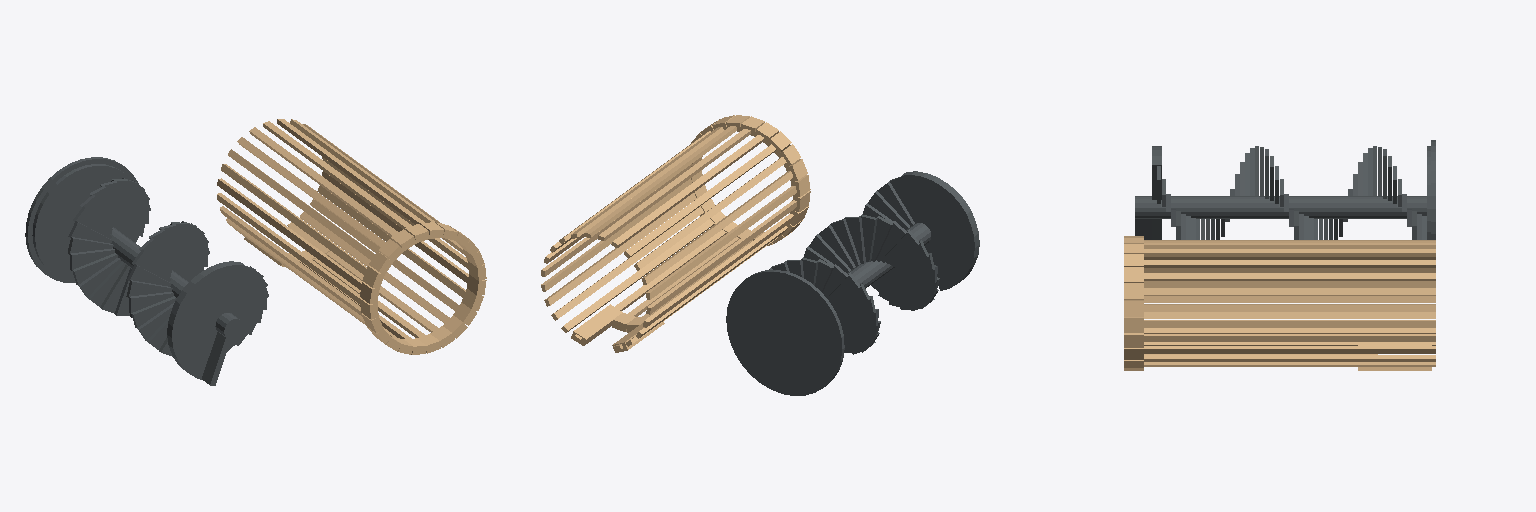
File: tinker.obj
3 views of the same model, side by side, from view 1: azimuth 30°, elevation 25°; view 2: azimuth 150°, elevation 25°; view 3: azimuth 270°, elevation 25° (orthographic).
Visible parts, largest first — view 1: obj_0; view 2: obj_0; view 3: obj_0.
Boxes of the visible parts, <box> form: obj_0: <box>25,119,486,385</box>; obj_0: <box>541,115,979,395</box>; obj_0: <box>1124,140,1435,370</box>.
Size of the model in its own units: 78.79 by 31.2 by 70.